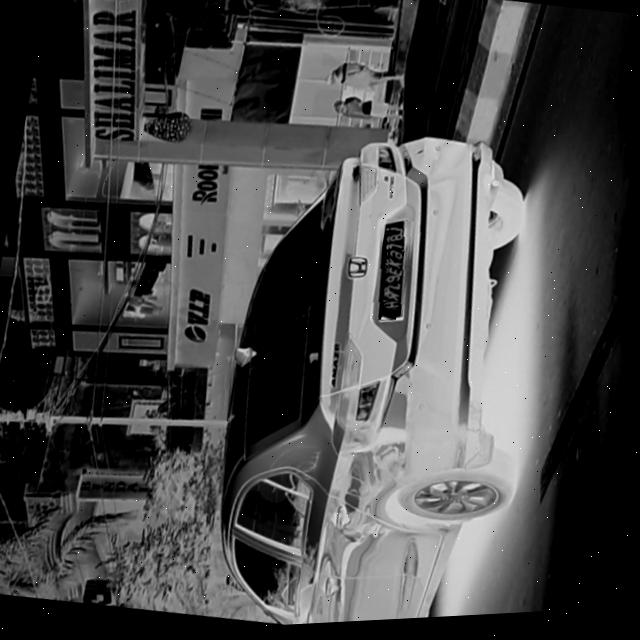2: (387, 285, 402, 297)
6: (387, 277, 403, 288)
7: (390, 244, 405, 256), (390, 229, 406, 239)
8: (390, 235, 405, 247)
9: (388, 251, 405, 264)
E: (389, 269, 404, 280)
H: (386, 301, 402, 314)
IND: (383, 311, 399, 324)
Indian_registered: (380, 224, 407, 323)
K: (389, 260, 403, 273)
R: (386, 293, 401, 306)
